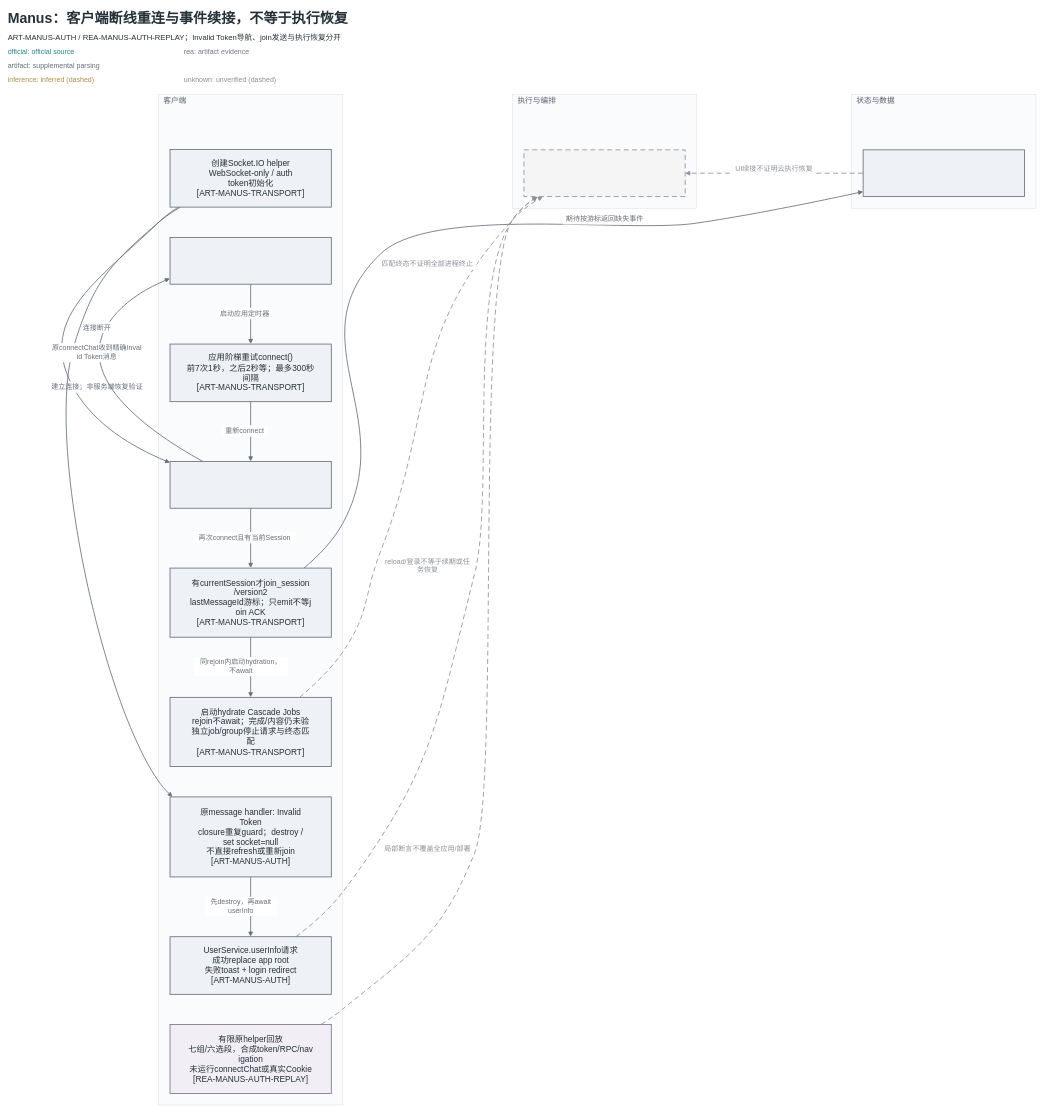
The diagram is 1044 pixels wide and 1114 high, and some of its shapes have lost their labels. The centre of each missing label's shape, as x and y in pixels:
connect后清重试定时器 连接计数>1触发重新加入 [ART-MANUS-TRANSPORT]: the point at 250,484
disconnect / offline 清连接ready / 开启重试定时器 [ART-MANUS-TRANSPORT]: the point at 250,260
eventsNotifyEventsAfter eventId游标 / 批次事件 [ART-MANUS-TRANSPORT]: the point at 943,173
未知：执行Loop/VM恢复 事件保留/缺口/幂等副作用 全局续期/退出与runtime部署: the point at 604,173
